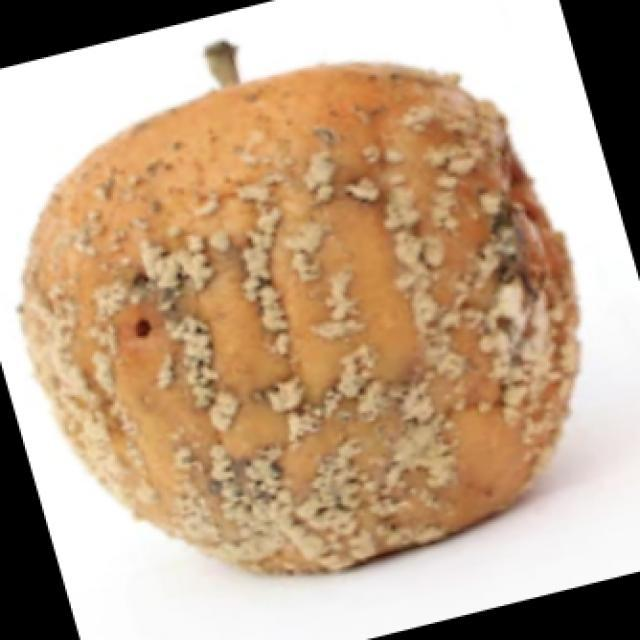Rotten: (35, 68, 565, 575)
